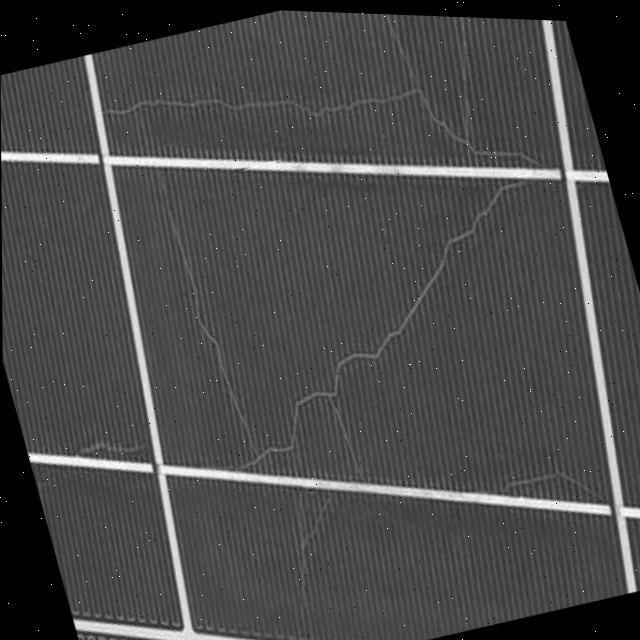Structural Damage: (243, 127, 529, 520), (351, 11, 546, 197), (149, 186, 257, 459), (98, 85, 422, 127), (263, 478, 337, 597), (72, 434, 149, 460)
